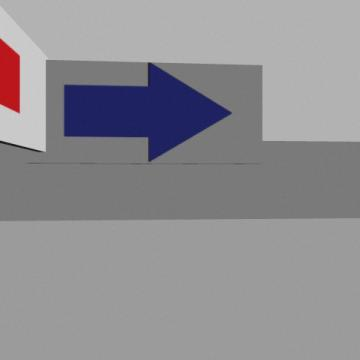blue_right: (64, 63, 231, 160)
